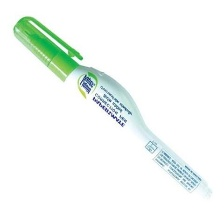correction_fluid: (11, 13, 214, 202)
